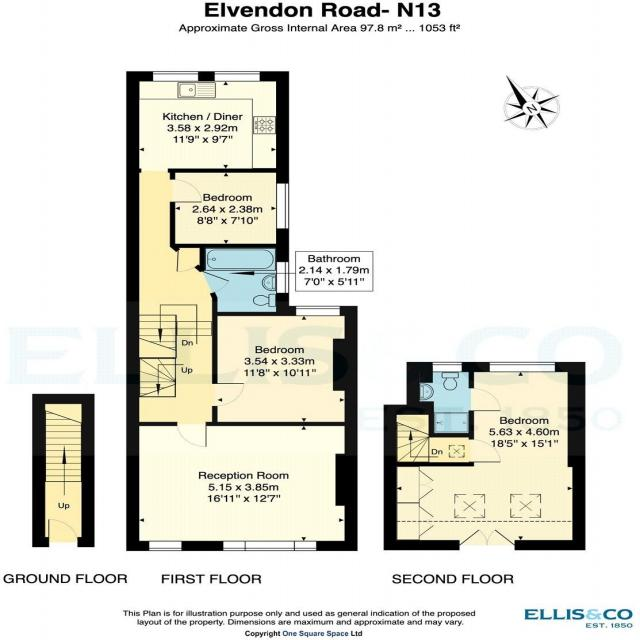DOOR: (175, 421, 208, 448), (211, 382, 245, 407), (469, 387, 502, 412), (199, 270, 232, 295), (469, 439, 502, 463), (170, 179, 203, 203)
ROOM: (383, 362, 586, 551), (126, 421, 358, 551), (212, 305, 358, 426), (126, 71, 290, 173), (170, 168, 290, 248)
WINDOW: (222, 540, 318, 552), (489, 361, 556, 373), (275, 183, 290, 229), (295, 305, 341, 317), (152, 71, 199, 82), (214, 71, 261, 82), (275, 261, 290, 294), (148, 540, 183, 552), (432, 361, 463, 373)
